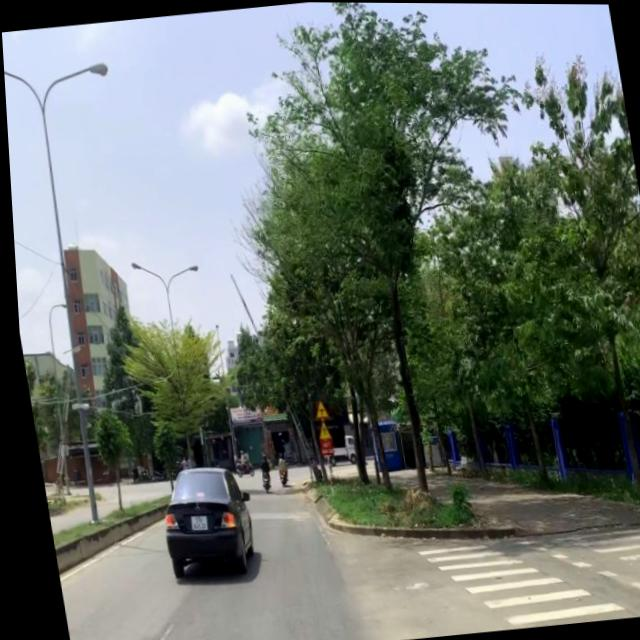Duong giao nhau cung cap: (308, 398, 325, 420)
Nguoi di bo cat ngang: (310, 420, 327, 441)
